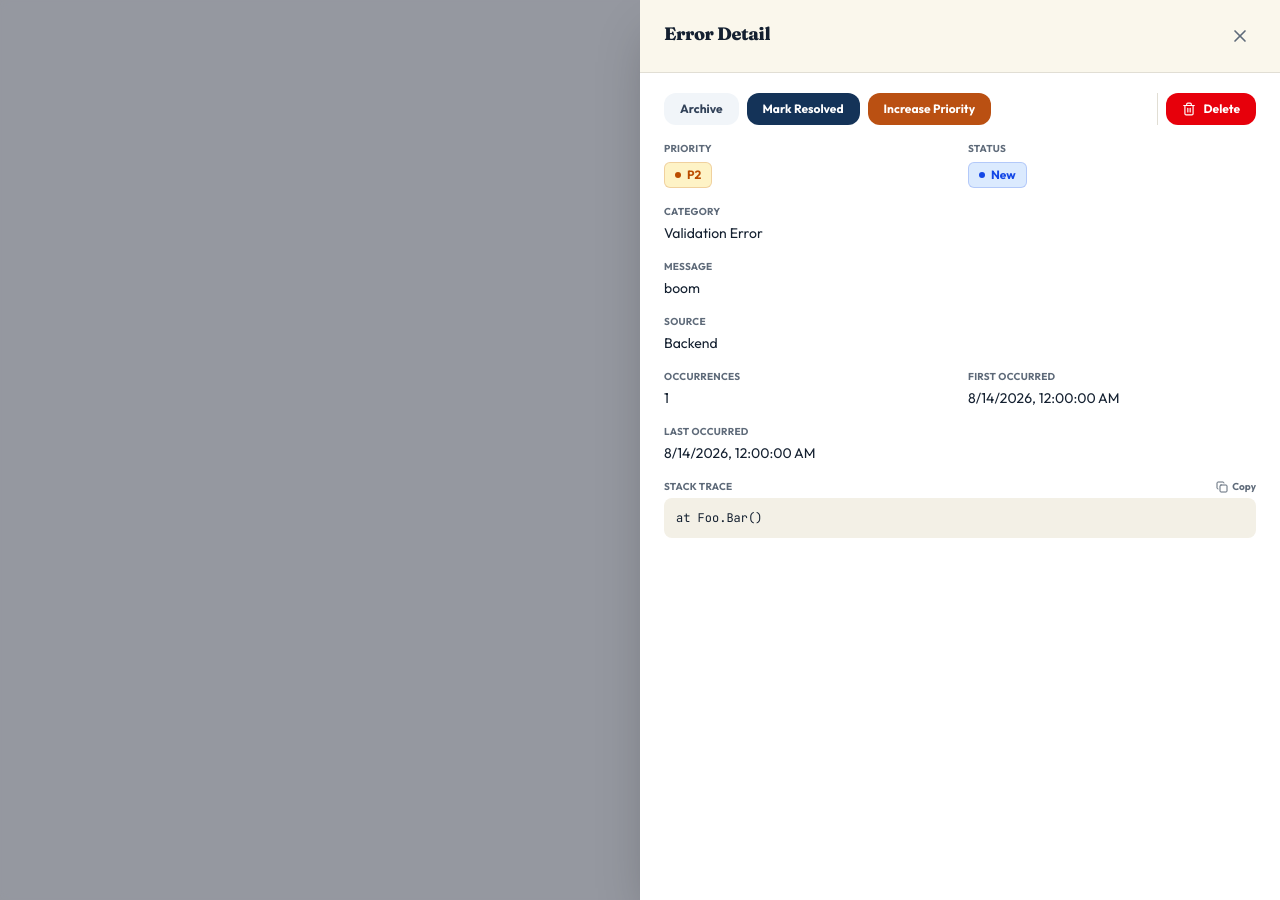
Test: ErrorDetailPanel › does not show a full-page loading spinner during the post-action re-fetch (targeted refresh, not a full reload)
Expected: the text "boom" is shown, [664,279,700,297]
What coordinates should you click on to do the following:
click the button "Archive"
I would click on:
 (701, 109)
Its box is [664,93,738,125].
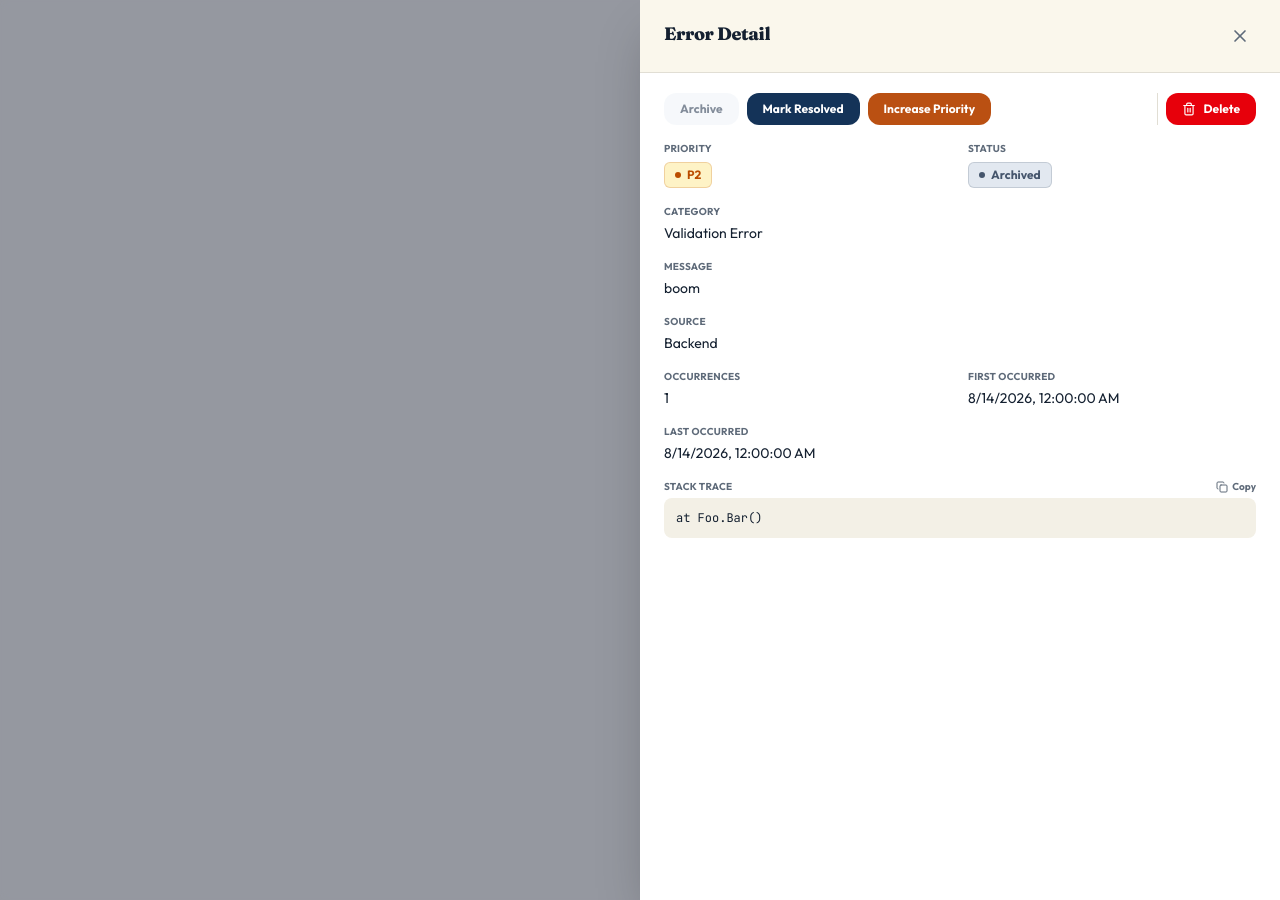
Expected: the text "boom" is shown, [664,279,700,297]
Expected: the button "Archive" is disabled, [664,93,738,125]
